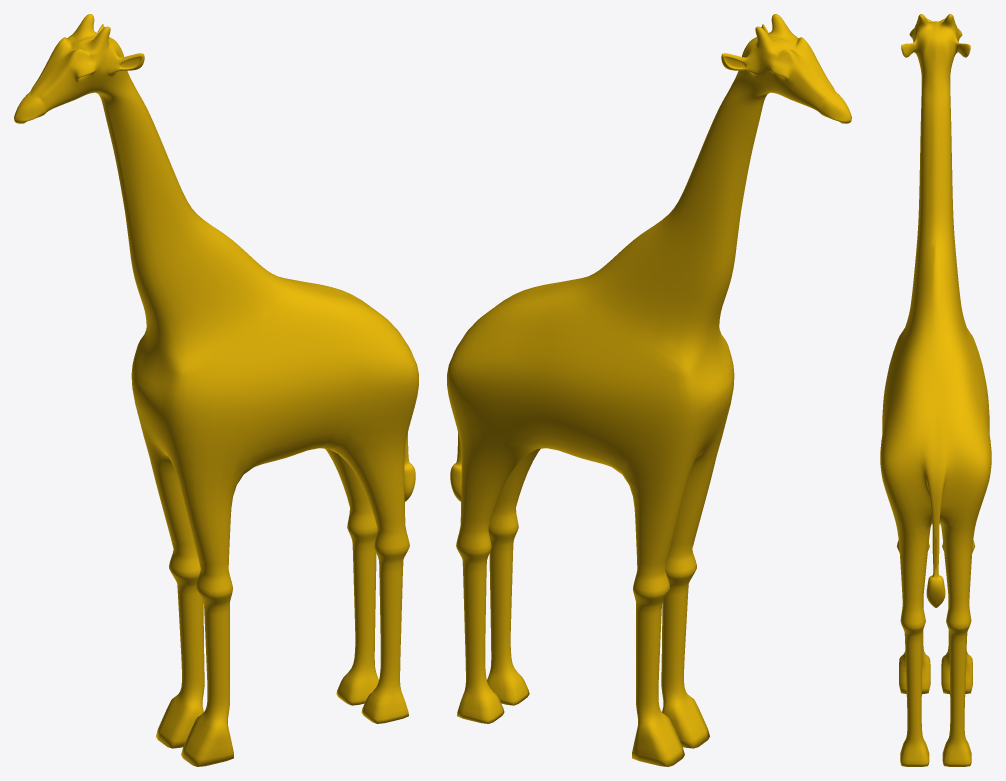
Rendered from kirinn.gltf.
The picture shows the model from 3 angles, left to right: view 1: azimuth 30°, elevation 25°; view 2: azimuth 150°, elevation 25°; view 3: azimuth 270°, elevation 25°; orthographic projection. The views are drawn at different scales.
Visible parts, largest first — view 1: Cube; view 2: Cube; view 3: Cube.
Part boxes in pixels (left/top/right/bottom): Cube: left=14, top=14, right=418, bottom=766; Cube: left=447, top=14, right=851, bottom=766; Cube: left=880, top=14, right=991, bottom=766.
Bounding box in the file's own units: 2.48 × 4.47 × 0.7132.
